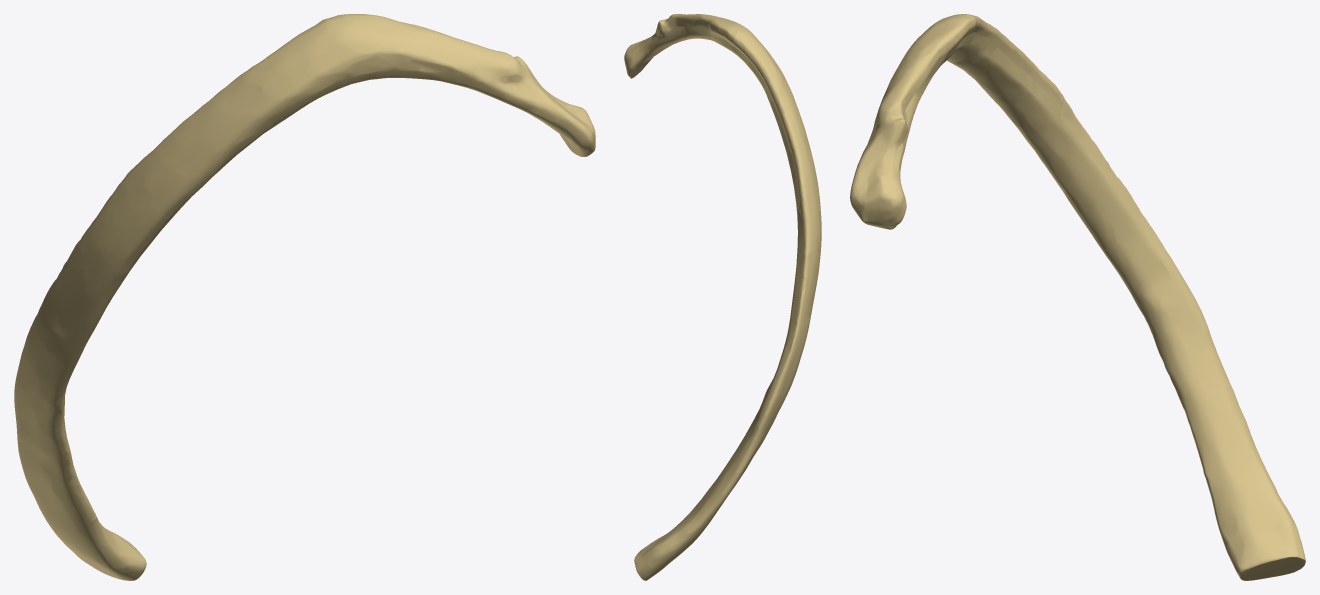
3 views of the same model, side by side, from view 1: azimuth 30°, elevation 25°; view 2: azimuth 150°, elevation 25°; view 3: azimuth 270°, elevation 25° (orthographic). The views are drawn at different scales.
Parts seen in each view (by area): view 1: 右侧第六肋; view 2: 右侧第六肋; view 3: 右侧第六肋.
Boxes of the visible parts, box(x1,y1,x2,y2) form: 右侧第六肋: box(14, 14, 595, 580); 右侧第六肋: box(624, 14, 821, 580); 右侧第六肋: box(850, 14, 1305, 580).
Size of the model in its own units: 0.1814 by 0.2891 by 0.2042.
